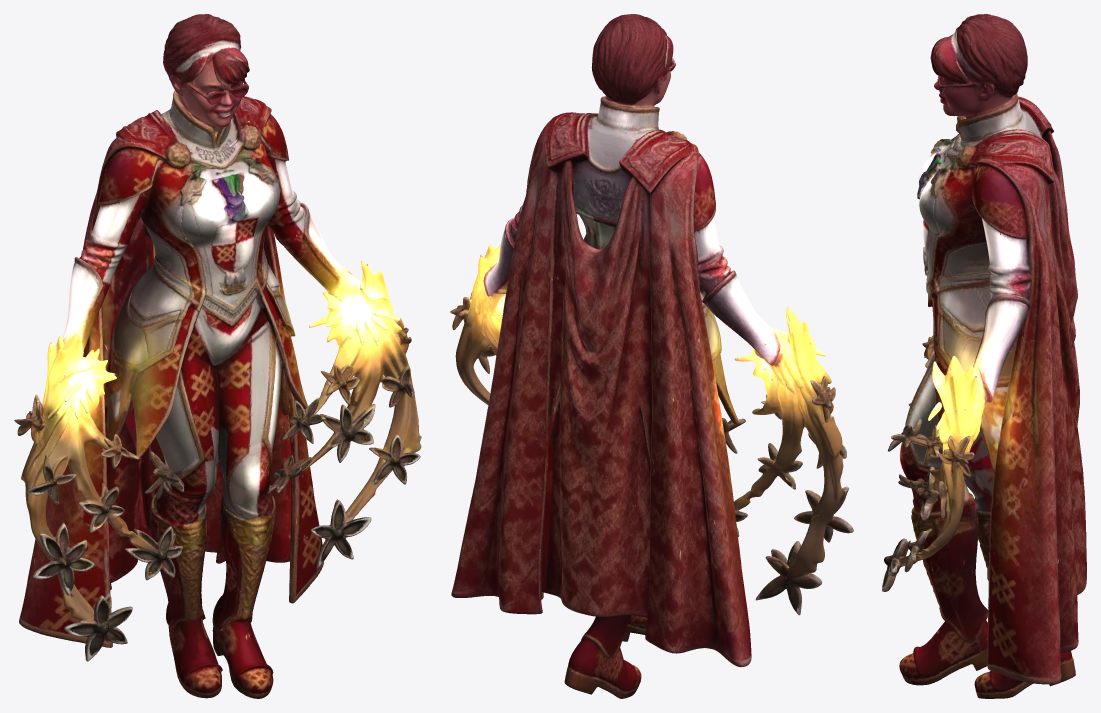
Rendered from Meshy_AI_Emberbound Paladin_1780570653_image-to-3d-texture-compressed.glb.
The picture shows the model from 3 angles, left to right: view 1: azimuth 30°, elevation 25°; view 2: azimuth 150°, elevation 25°; view 3: azimuth 270°, elevation 25°; orthographic projection.
Parts seen in each view (by area): view 1: mesh_0; view 2: mesh_0; view 3: mesh_0.
Part boxes in pixels (x1=…): mesh_0: x1=14, y1=14, x2=421, y2=698; mesh_0: x1=450, y1=14, x2=853, y2=698; mesh_0: x1=882, y1=14, x2=1086, y2=698.
Size of the model in its own units: 1.15 by 1.9 by 0.5203.
1 material, 1 textured.
